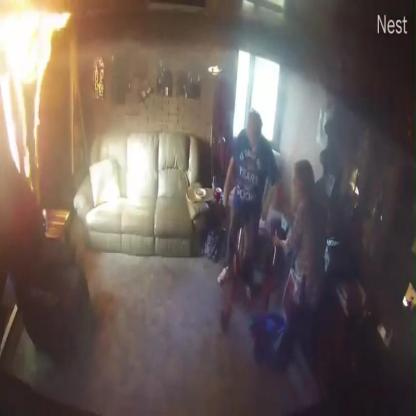fire: (1, 6, 71, 190)
